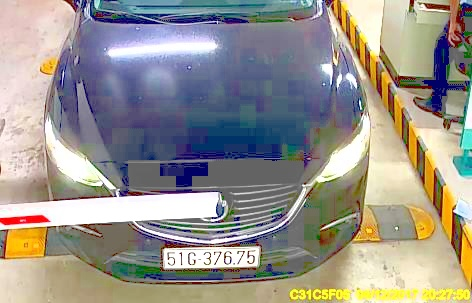plate: (159, 243, 259, 271)
